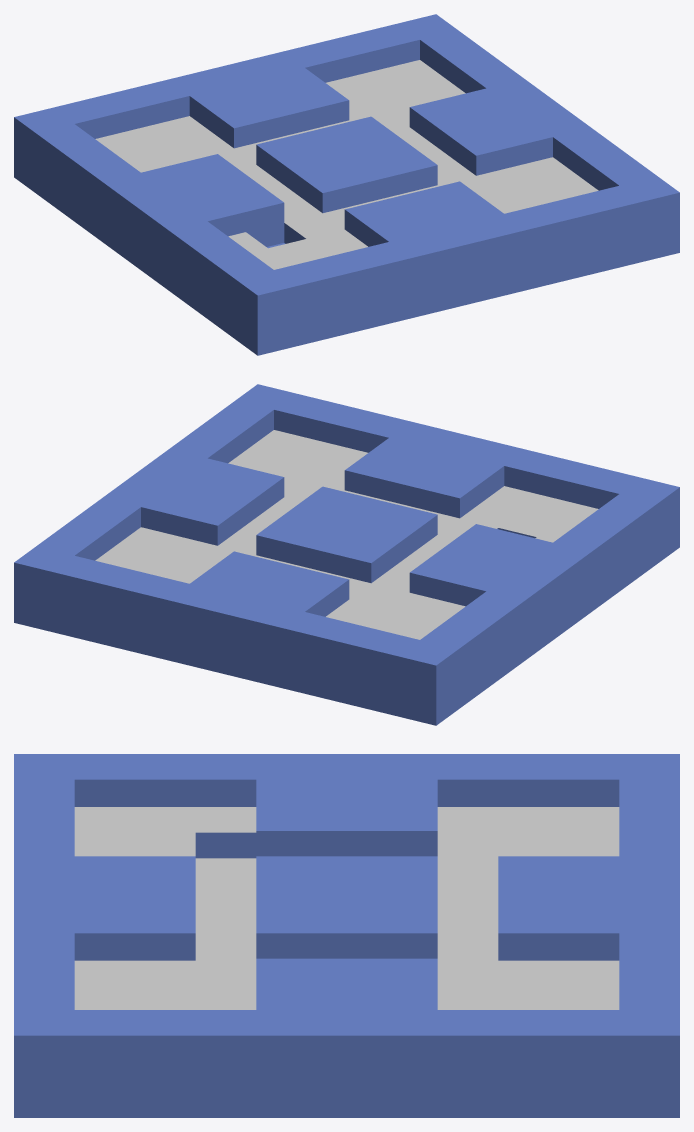
The model's file is 012_platform.fbx.
3 renders of one model, top to bottom at view 1: azimuth 30°, elevation 25°; view 2: azimuth 150°, elevation 25°; view 3: azimuth 270°, elevation 25°, orthographic. The views are drawn at different scales.
Parts seen in each view (by area): view 1: Cube; view 2: Cube; view 3: Cube.
Boxes of the visible parts, box(x1,y1,x2,y2) form: Cube: box(14, 14, 679, 355); Cube: box(14, 384, 679, 725); Cube: box(14, 754, 679, 1117).
Size of the model in its own units: 1100 by 150 by 1100.
